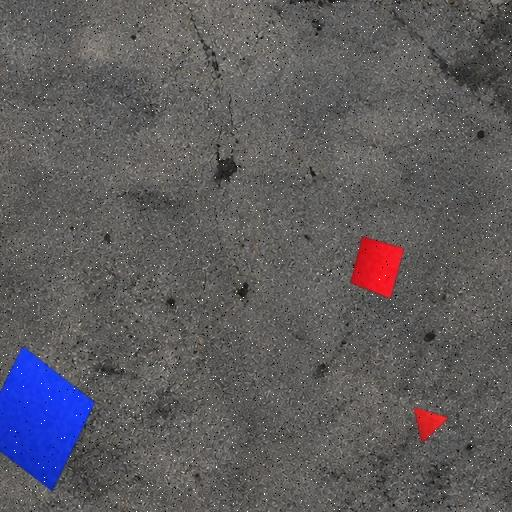BLUE_SQUARE: (0, 346, 96, 492)
RED_SQUARE: (350, 236, 404, 299)
